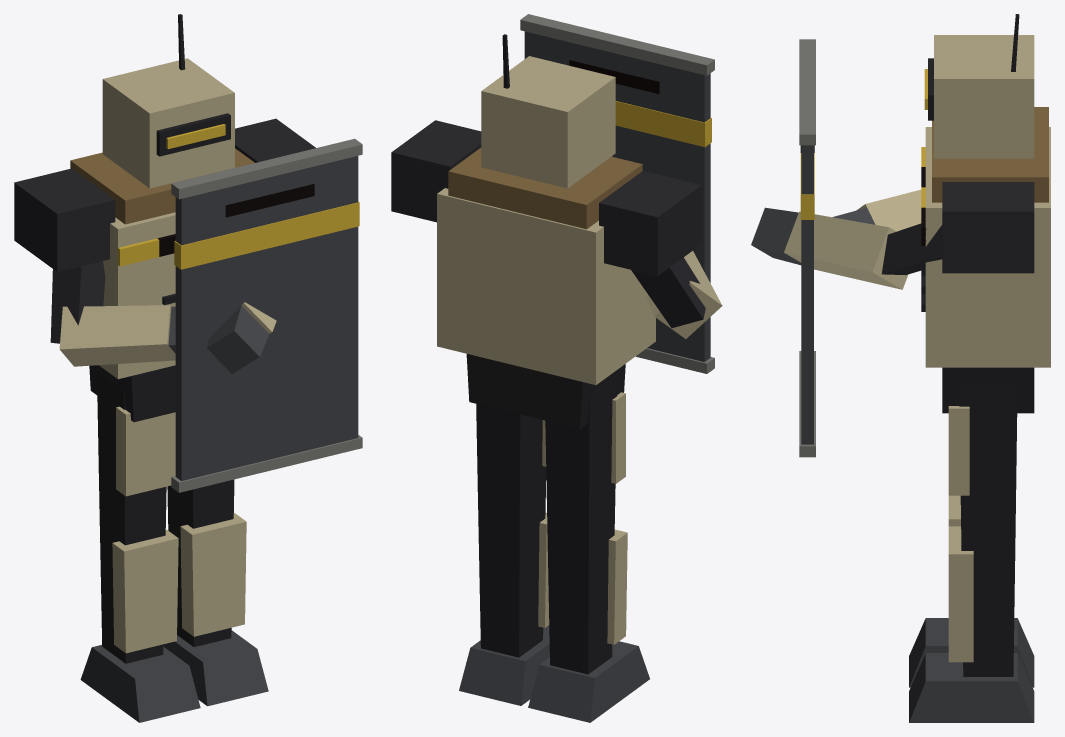
File: ai_warden.glb
The picture shows the model from 3 angles, left to right: view 1: azimuth 30°, elevation 25°; view 2: azimuth 150°, elevation 25°; view 3: azimuth 270°, elevation 25°; orthographic projection. The views are drawn at different scales.
Visible parts, largest first — view 1: shield_l, leg_r_lower, head, leg_l_lower, torso, leg_r, pauldron_r, arm_r_lower, arm_l_lower, arm_r, pauldron_l, leg_l; view 2: torso, shield_l, leg_r_lower, head, leg_l_lower, leg_r, pauldron_r, leg_l, pauldron_l, arm_r, arm_r_lower; view 3: torso, leg_l_lower, head, leg_l, pauldron_l, arm_l_lower, shield_l, leg_r_lower, arm_l, arm_r_lower.
Part boxes in pixels (<box>): shield_l: <box>171,138,362,492</box>; leg_r_lower: <box>80,513,200,722</box>; head: <box>102,14,234,188</box>; leg_l_lower: <box>163,497,268,706</box>; torso: <box>70,148,254,422</box>; leg_r: <box>97,370,175,531</box>; pauldron_r: <box>14,168,115,271</box>; arm_r_lower: <box>59,305,175,366</box>; arm_l_lower: <box>206,302,276,373</box>; arm_r: <box>50,261,105,343</box>; pauldron_l: <box>235,118,315,162</box>; leg_l: <box>167,479,234,515</box>; torso: <box>437,147,655,428</box>; shield_l: <box>520,14,714,373</box>; leg_r_lower: <box>528,521,649,722</box>; head: <box>481,34,615,188</box>; leg_l_lower: <box>459,505,549,705</box>; leg_r: <box>545,375,625,540</box>; pauldron_r: <box>599,171,701,276</box>; leg_l: <box>476,404,546,523</box>; pauldron_l: <box>391,120,481,222</box>; arm_r: <box>631,257,705,327</box>; arm_r_lower: <box>646,251,722,338</box>; torso: <box>921,107,1050,413</box>; leg_l_lower: <box>909,526,1034,722</box>; head: <box>924,14,1034,158</box>; leg_l: <box>948,385,1017,536</box>; pauldron_l: <box>942,182,1034,273</box>; arm_l_lower: <box>751,207,908,289</box>; shield_l: <box>799,39,815,457</box>; leg_r_lower: <box>909,495,1034,687</box>; arm_l: <box>881,222,942,275</box>; arm_r_lower: <box>833,189,921,231</box>.
Bounding box in the file's own units: 0.9564 × 2.19 × 0.8625.
